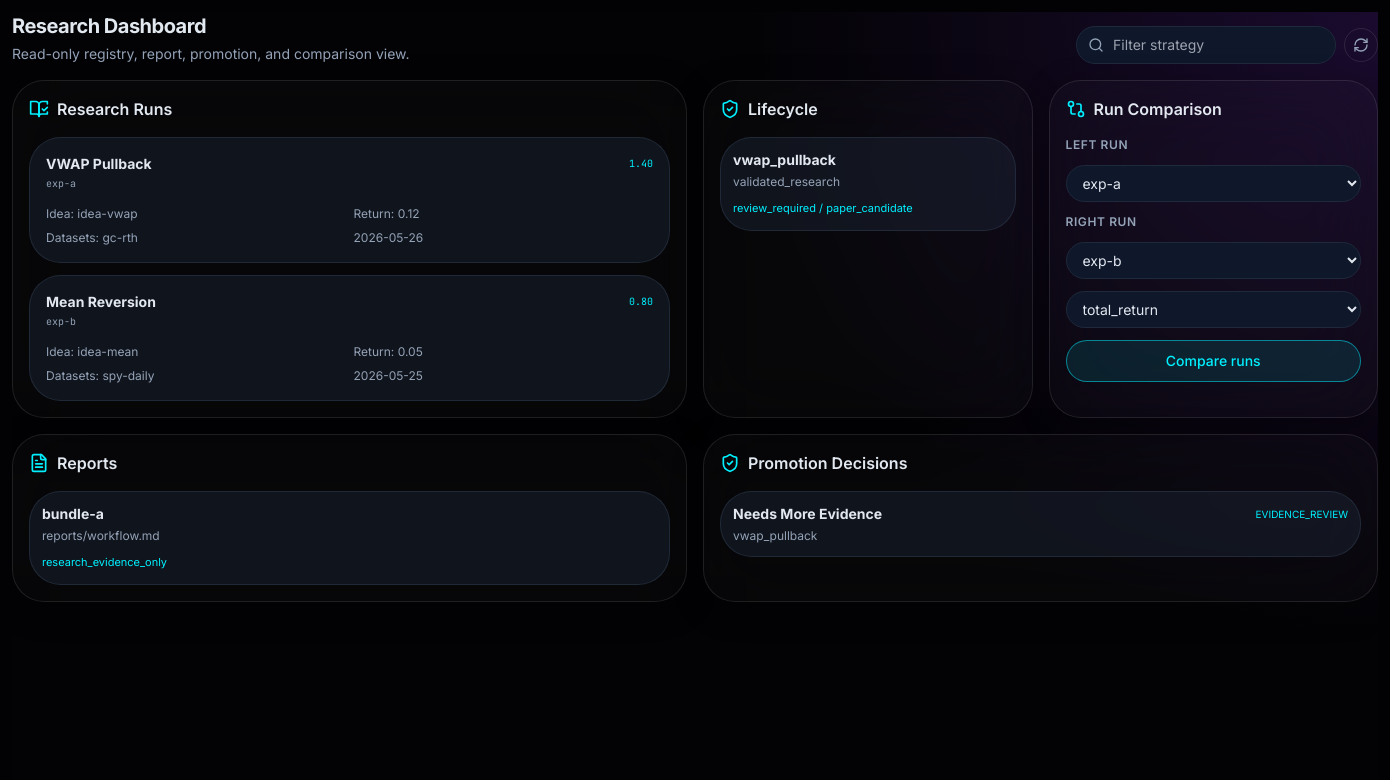
ResearchDashboard › loads research runs, reports, lifecycle status, decisions, and comparison output
This screenshot has width=1390, height=780.
Expected: the heading "Research Dashboard" is shown, [12,14,206,38]
Expected: the text "VWAP Pullback" is shown, [46,154,152,174]
Type "VWAP" into the field labelled "Strategy filter" at [1206, 45], box [1076,26,1336,64]
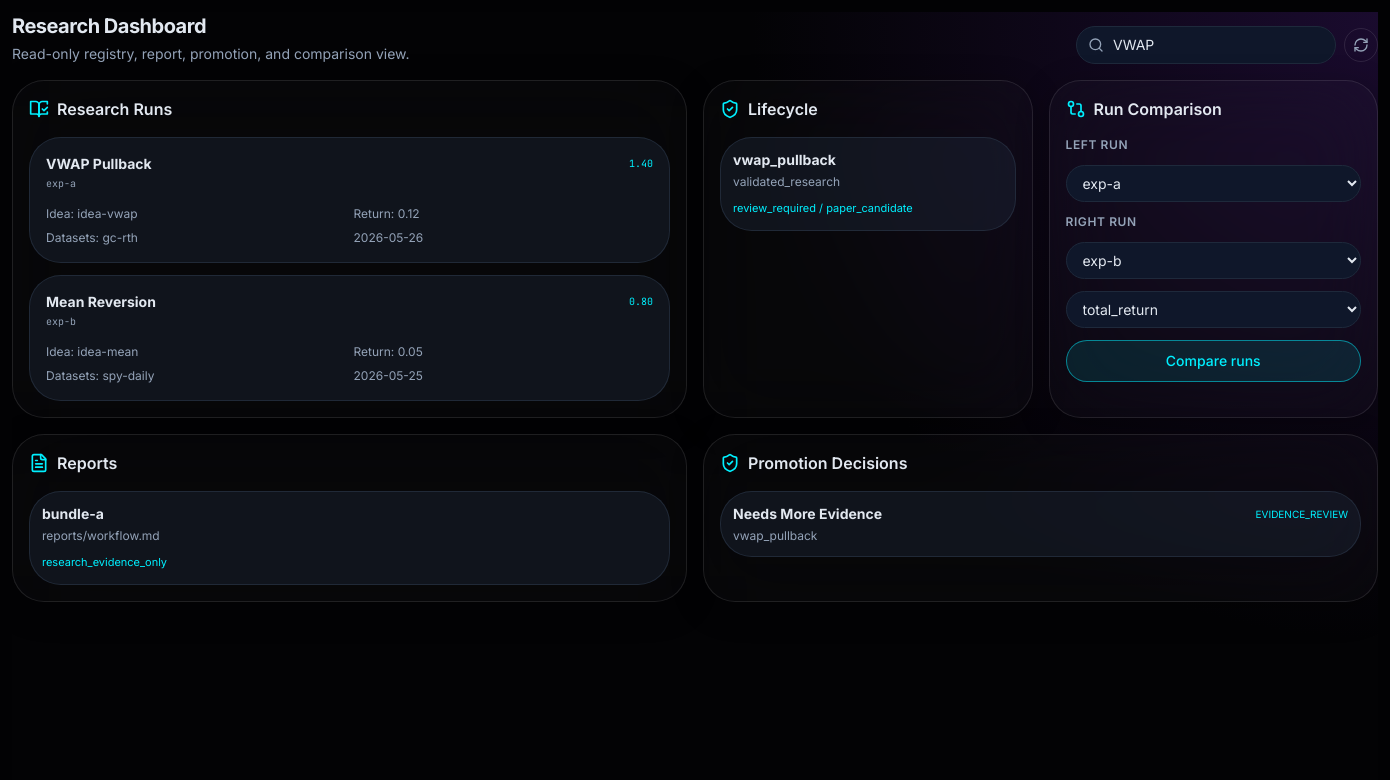
Select "exp-a" in the dropdown labelled "Left run" at [1213, 184], box [1066,165,1361,202]
Select "exp-b" in the dropdown labelled "Right run" at [1213, 260], box [1066,242,1361,279]
Click the button "Compare runs" at [1213, 361], box [1066,340,1361,382]
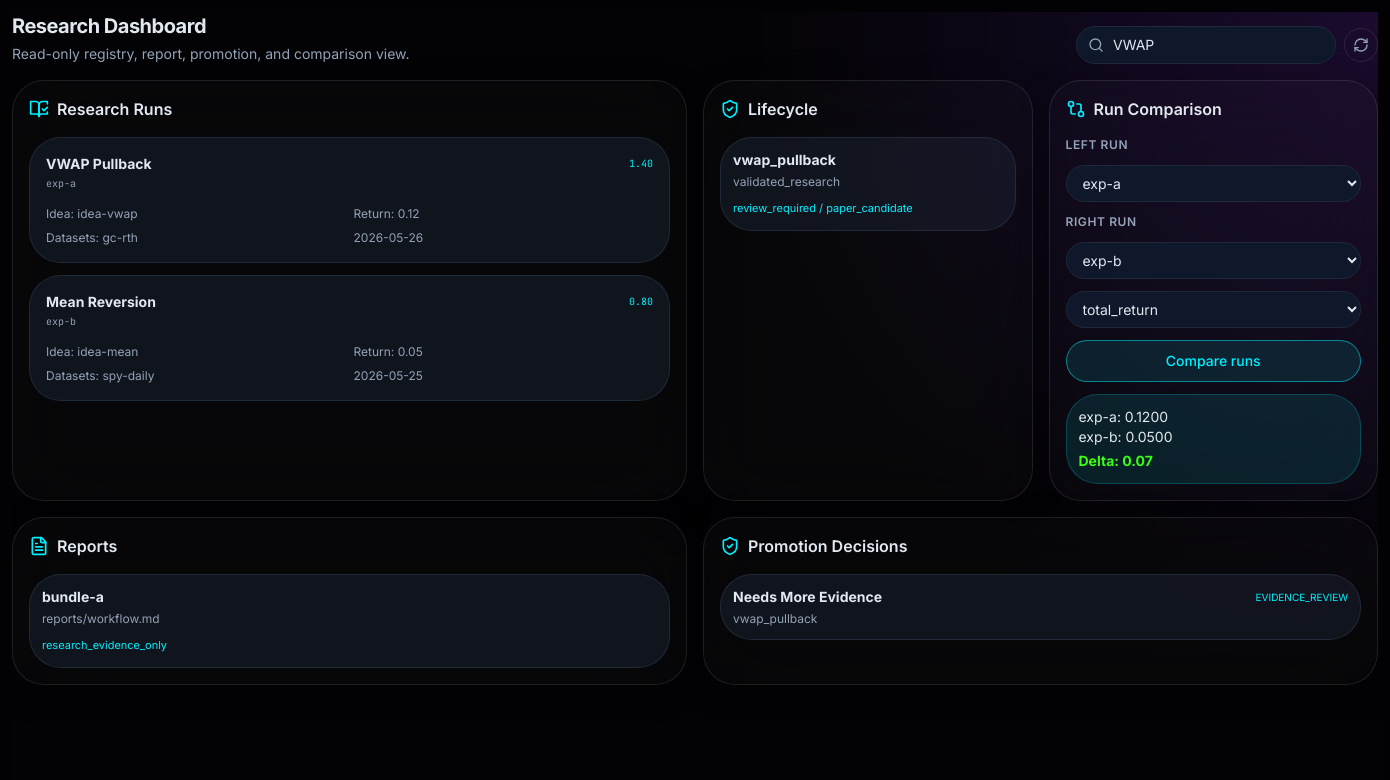
Expected: the text "Delta: 0.07" is shown, [1078,452,1153,469]
Click the button with aria-label "Open report bundle-a" at [73, 596], box [29,574,670,668]
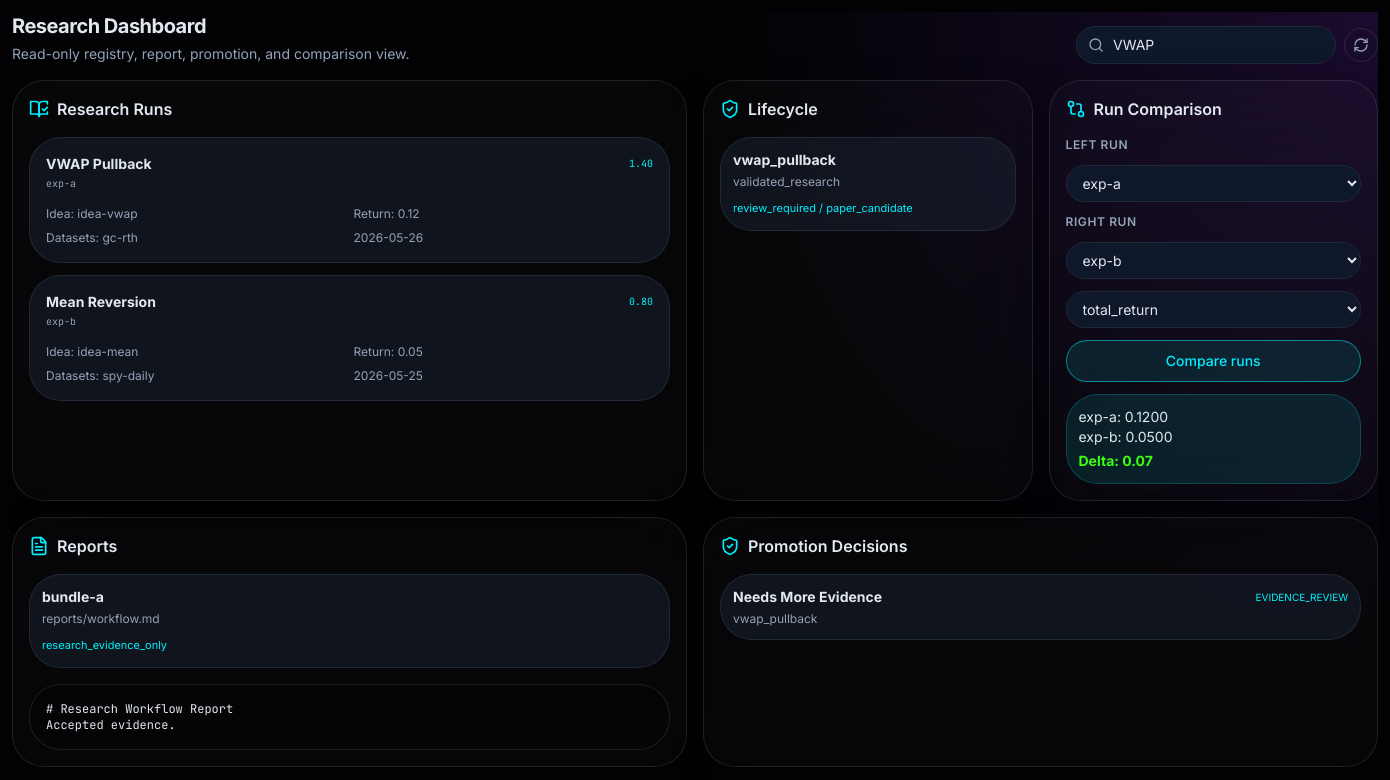
Expected: the text "# Research Workflow Report Accepted evidence." is shown, [29,684,670,750]
